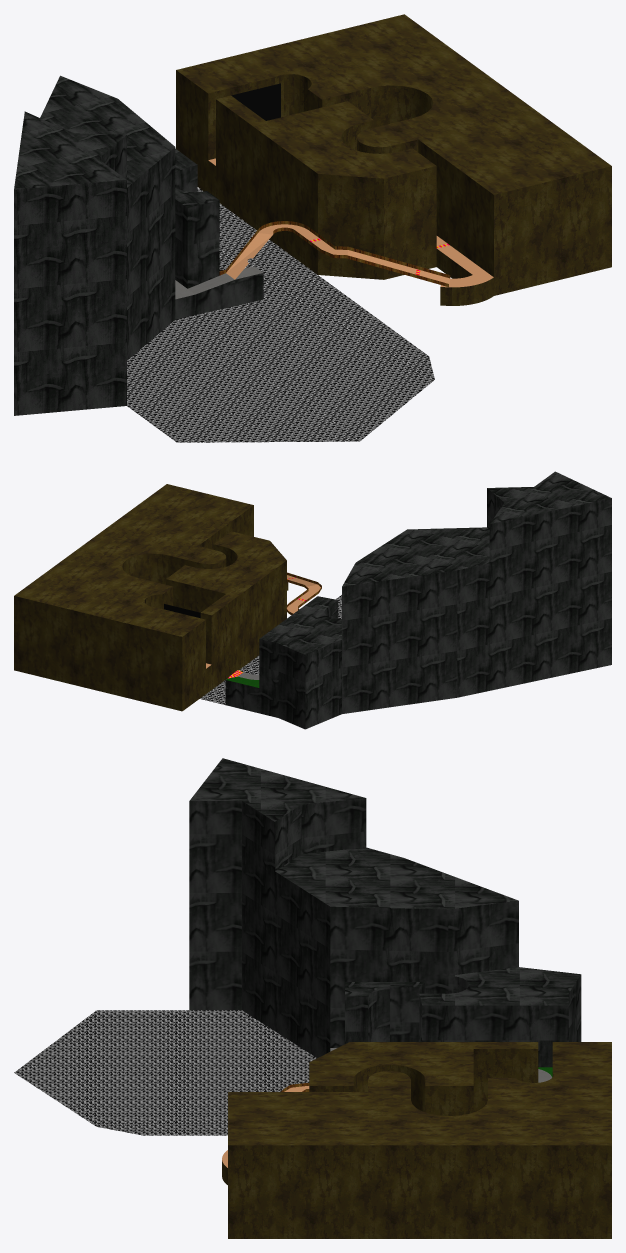
3 views of the same model, one above another, from view 1: azimuth 30°, elevation 25°; view 2: azimuth 150°, elevation 25°; view 3: azimuth 270°, elevation 25° (orthographic). The views are drawn at different scales.
Visible parts, largest first — view 1: v1_3-SKP--dirtwall.001, v1_3-SKP--rockwall.001, v1_3-SKP--water.001, v1_3-SKP--road.001, v1_3-SKP--roadside.001, v1_3-SKP--Default_Material.001, v1_3-SKP--asfalt.001; view 2: v1_3-SKP--rockwall.001, v1_3-SKP--dirtwall.001, v1_3-SKP--water.001, v1_3-SKP--road.001; view 3: v1_3-SKP--rockwall.001, v1_3-SKP--dirtwall.001, v1_3-SKP--water.001.
Part boxes in pixels (x1,y1,x2,y2): v1_3-SKP--dirtwall.001: [176, 14, 611, 305]; v1_3-SKP--rockwall.001: [14, 75, 263, 415]; v1_3-SKP--water.001: [127, 188, 434, 442]; v1_3-SKP--road.001: [208, 158, 493, 287]; v1_3-SKP--roadside.001: [219, 221, 450, 286]; v1_3-SKP--Default_Material.001: [231, 83, 280, 120]; v1_3-SKP--asfalt.001: [175, 266, 263, 299]; v1_3-SKP--rockwall.001: [225, 471, 611, 729]; v1_3-SKP--dirtwall.001: [14, 484, 288, 711]; v1_3-SKP--water.001: [200, 595, 341, 704]; v1_3-SKP--road.001: [206, 575, 320, 668]; v1_3-SKP--rockwall.001: [189, 758, 581, 1067]; v1_3-SKP--dirtwall.001: [222, 1042, 611, 1238]; v1_3-SKP--water.001: [14, 1010, 316, 1135].
Size of what is drawn, in the model's own units: 158733 by 57101 by 147826.
Materials: 13 (13 with a texture image).
